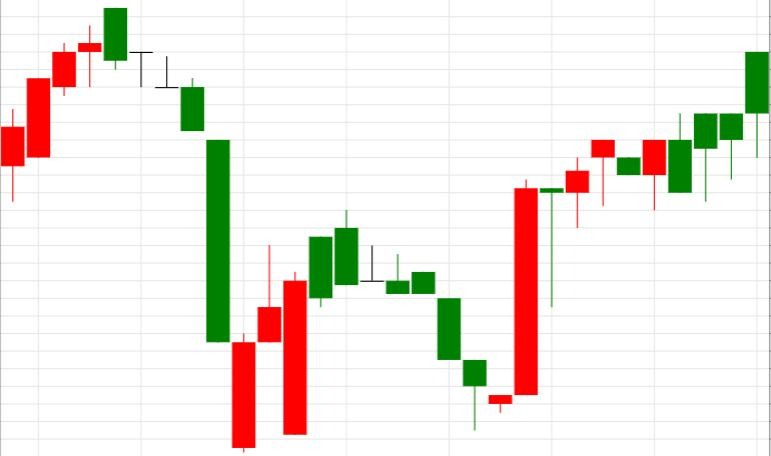morning_star_rise: (335, 178, 537, 430)
